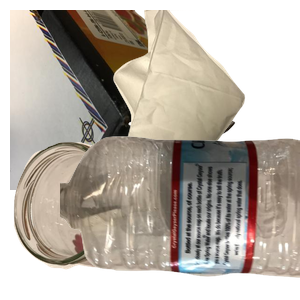cardboard: (10, 10, 238, 190)
glass: (11, 139, 179, 300)
plastic: (60, 134, 300, 300)
trash: (111, 10, 300, 190)
